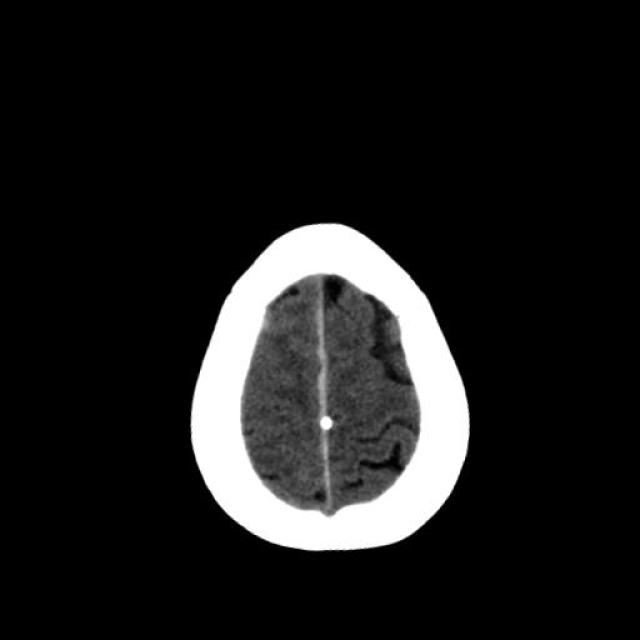Subdural: (264, 275, 391, 519)
